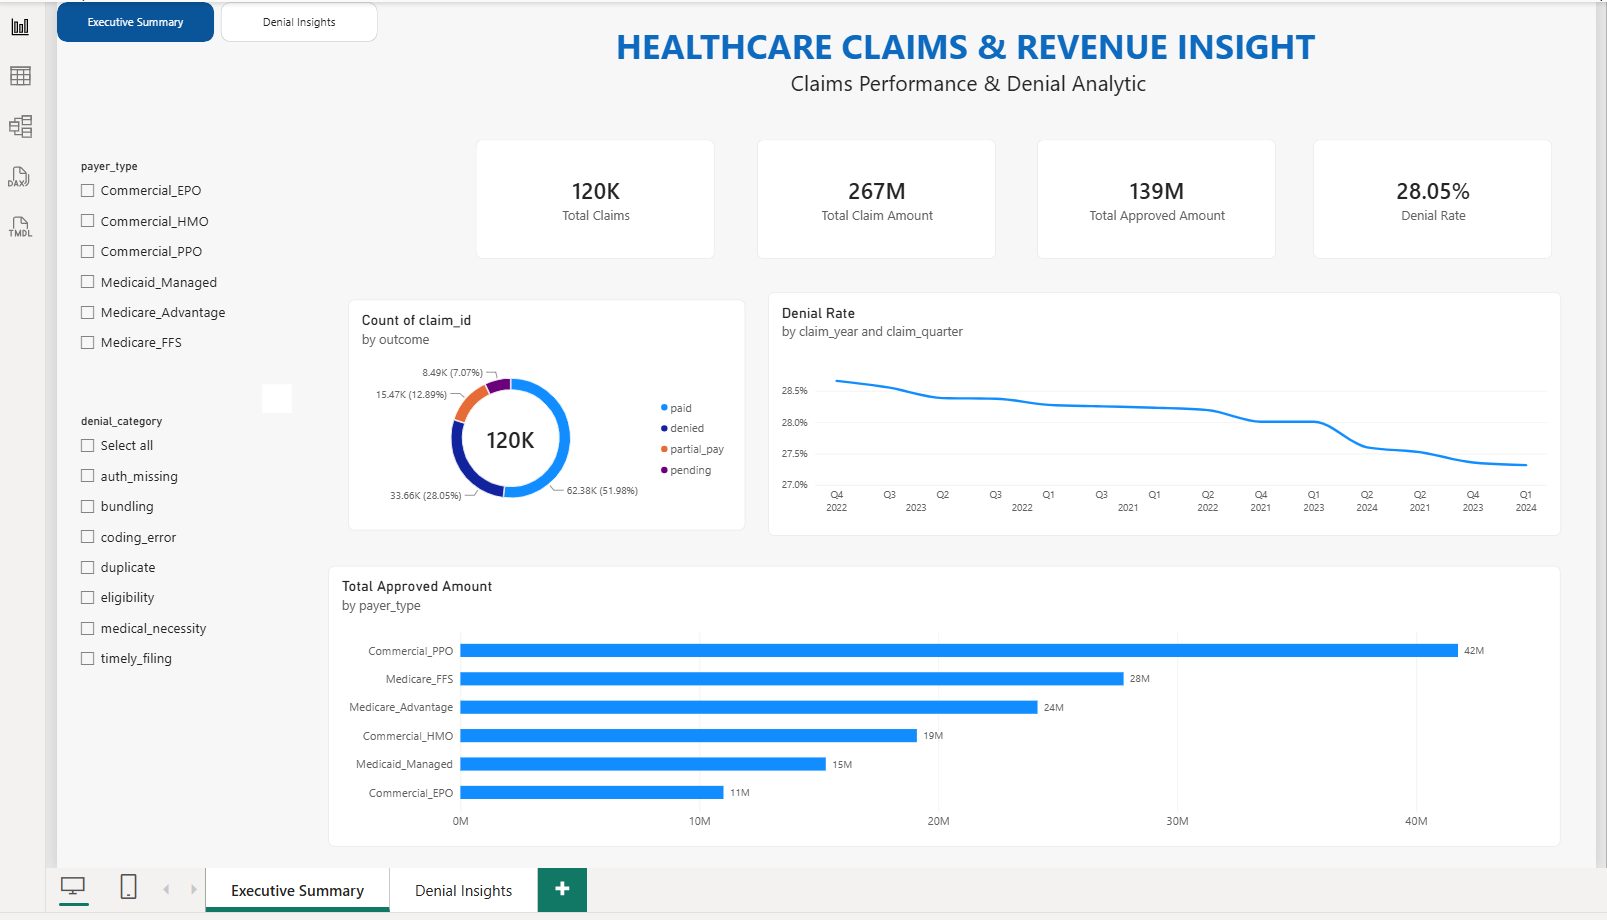

The dashboard page shown, as its layout file describes it:
{"tool":"powerbi","page":{"name":"Executive Summary","canvas":[1920,1080],"ordinal":0},"visuals":[{"type":"cardVisual","fields":{"Data":["Measurs1.Total Claims"]},"box":[522.6,170.8,298.7,149.3],"z":1000},{"type":"cardVisual","fields":{"Data":["Measurs1.Total Claim Amount"]},"box":[873.5,170.8,298.7,149.3],"z":1001},{"type":"cardVisual","fields":{"Data":["Measurs1.Total Approved Amount"]},"box":[1221.9,170.8,298.7,149.3],"z":1002},{"type":"cardVisual","fields":{"Data":["Measurs1.Denial Rate"]},"box":[1566,170.8,298.7,149.3],"z":1003},{"type":"donutChart","fields":{"Category":["claims_main.outcome"],"Y":["CountNonNull(claims_main.claim_id)"]},"box":[363.1,370.3,495.6,287.8],"z":1004},{"type":"lineChart","fields":{"Category":["claims_main.claim_year","claims_main.claim_quarter"],"Y":["Measurs1.Denial Rate"]},"box":[886.3,361.3,988.8,303.8],"z":1005},{"type":"clusteredBarChart","fields":{"Category":["claims_main.payer_type"],"Y":["Measurs1.Total Approved Amount"]},"box":[338,702.9,1537.1,350.6],"z":1006},{"type":"pageNavigator","box":[0,0,400,50],"z":1007},{"type":"slicer","fields":{"Values":["claims_main.payer_type"]},"box":[21.6,196,273.3,280.4],"z":1008},{"type":"slicer","fields":{"Values":["denial_labels.denial_category"]},"box":[21.6,514.2,273.3,431.5],"z":1009},{"type":"textbox","box":[523.1,25.2,1218.9,106.1],"z":1010}]}

Visuals, with their boxes on the page's 1920x1080 design canvas (x1, y1, x2, y2). These are canvas units, not pixel positions in the 1607x920 screenshot, which may show the page scaled, cropped or inside an application window:
cardVisual - Measurs1.Total Claims: <box>523,171,821,320</box>
cardVisual - Measurs1.Total Claim Amount: <box>874,171,1172,320</box>
cardVisual - Measurs1.Total Approved Amount: <box>1222,171,1521,320</box>
cardVisual - Measurs1.Denial Rate: <box>1566,171,1865,320</box>
donutChart - claims_main.outcome x CountNonNull(claims_main.claim_id): <box>363,370,859,658</box>
lineChart - claims_main.claim_year x claims_main.claim_quarter: <box>886,361,1875,665</box>
clusteredBarChart - claims_main.payer_type x Measurs1.Total Approved Amount: <box>338,703,1875,1054</box>
pageNavigator: <box>0,0,400,50</box>
slicer - claims_main.payer_type: <box>22,196,295,476</box>
slicer - denial_labels.denial_category: <box>22,514,295,946</box>
textbox: <box>523,25,1742,131</box>
